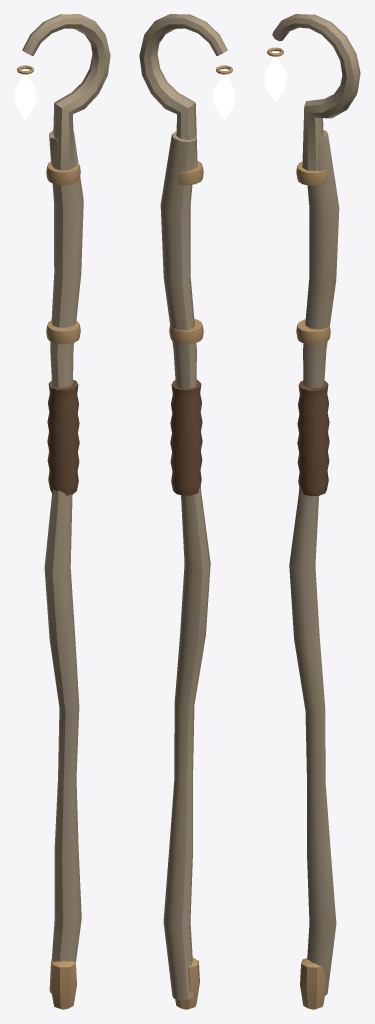
File: pilgrims_staff.glb
3 renders of one model, left to right at view 1: azimuth 30°, elevation 25°; view 2: azimuth 150°, elevation 25°; view 3: azimuth 330°, elevation 25°, orthographic.
Visible parts, largest first — view 1: pilgrims_staff; view 2: pilgrims_staff; view 3: pilgrims_staff.
Part boxes in pixels (left/top/right/bottom): pilgrims_staff: left=14, top=14, right=110, bottom=1009; pilgrims_staff: left=139, top=14, right=235, bottom=1009; pilgrims_staff: left=264, top=14, right=360, bottom=1009.
Size of the model in its own units: 0.1881 by 1.88 by 0.0636.
